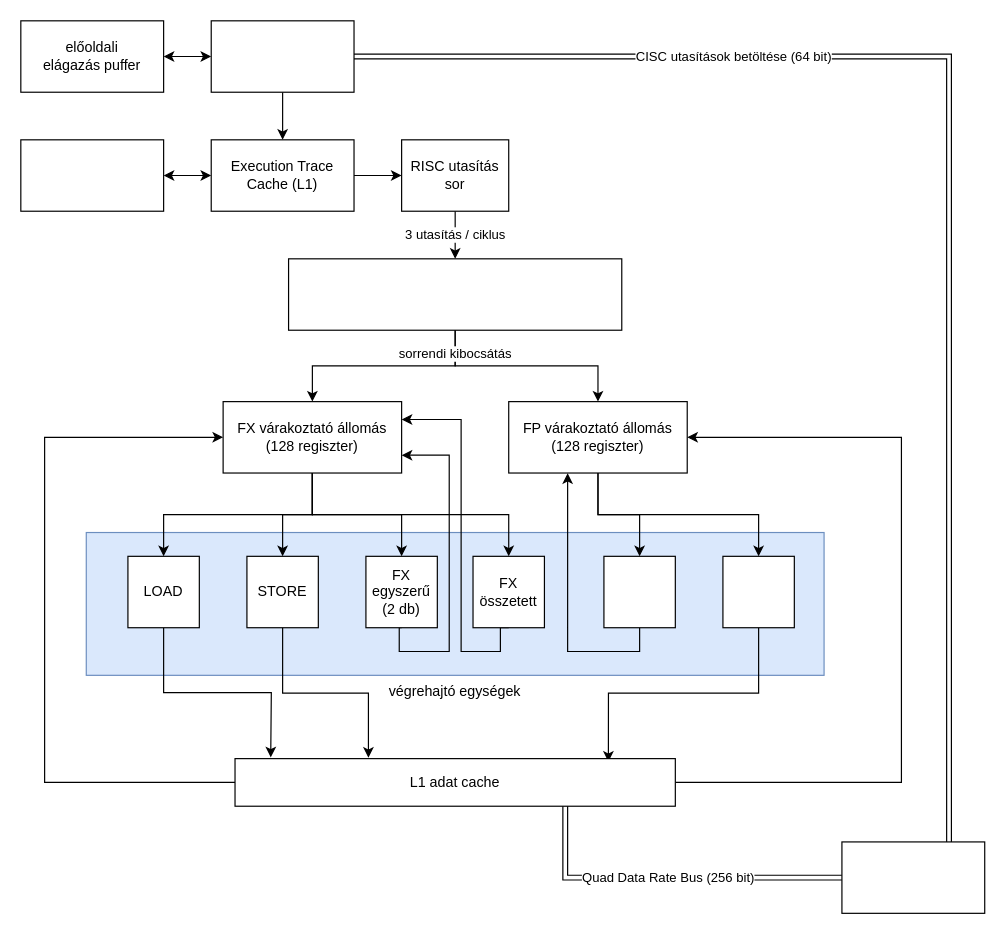
This 1006x934 diagram has some shape labels left out. Each missing label, with the centre of its shape:
dekódoló egység: (x=282, y=56)
FP (MMX, SSE): (x=639, y=591)
FP adat mozgatás: (x=758, y=591)
L2 cache (adat + utasítás): (x=913, y=877)
nyomkövető elágazás célpuffer: (x=92, y=175)
regiszter átnevező és hozzárendelő egység: (x=454, y=294)
